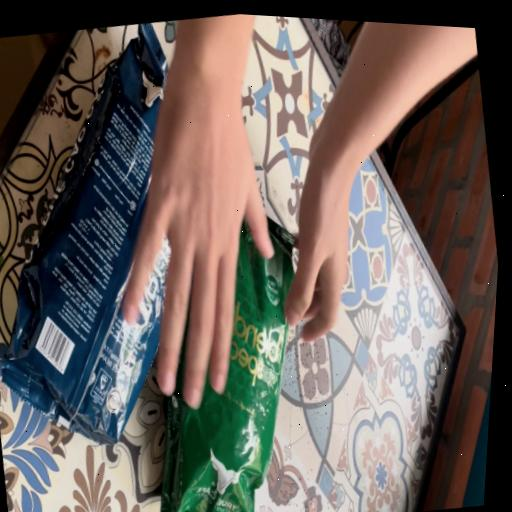cafe_hat: (0, 23, 169, 444)
cafe_xay: (159, 218, 293, 512)
